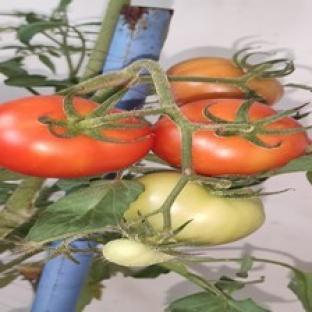Tomato: (0, 95, 153, 178), (170, 182, 264, 245), (193, 129, 309, 175), (102, 239, 172, 267), (170, 81, 245, 105)
